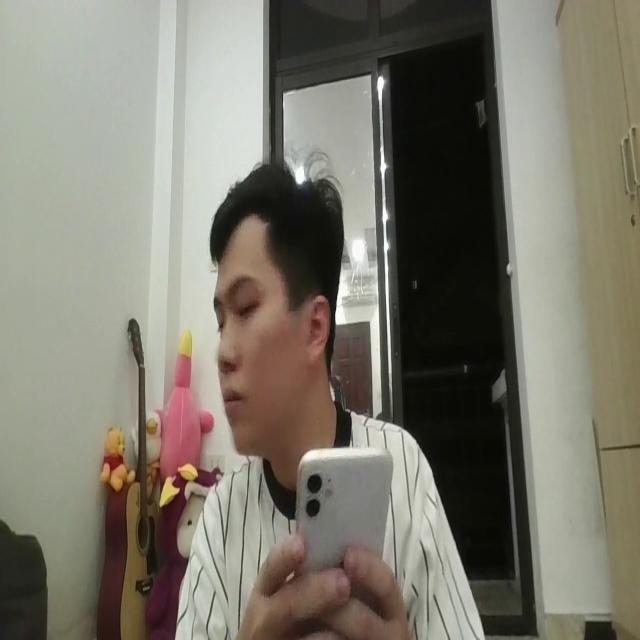phone: (297, 436, 393, 568)
student: (177, 157, 484, 640)
